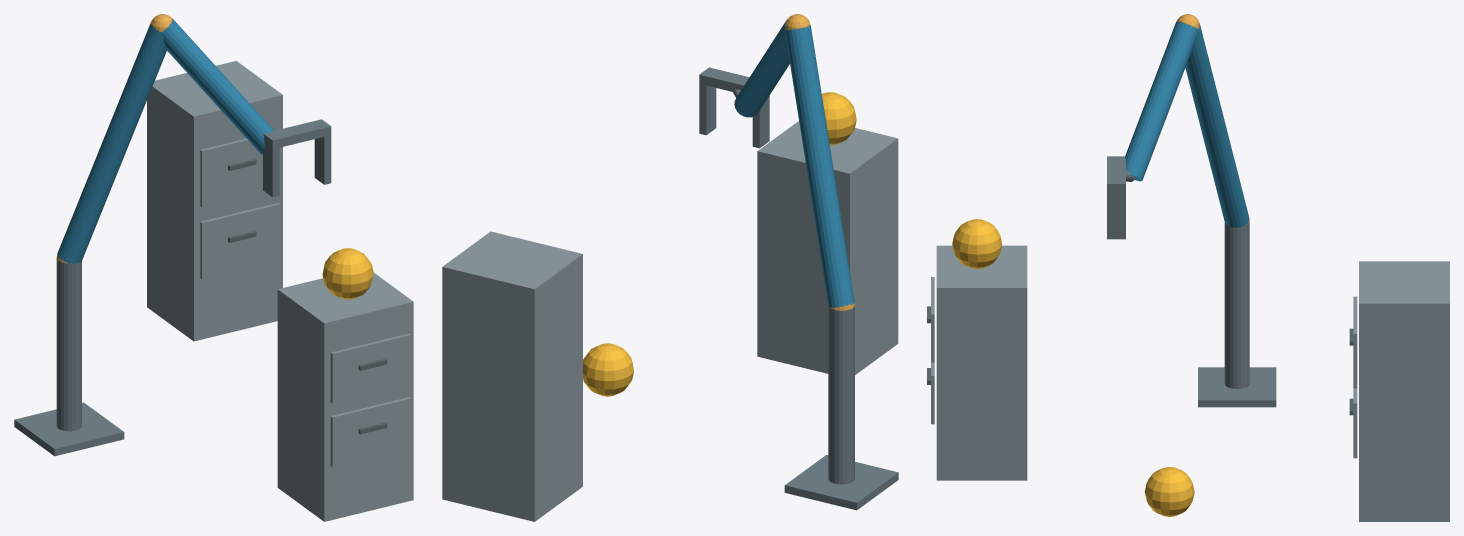
3 views of the same model, side by side, from view 1: azimuth 30°, elevation 25°; view 2: azimuth 150°, elevation 25°; view 3: azimuth 270°, elevation 25° (orthographic). The views are drawn at different scales.
Parts seen in each view (by area): view 1: cabinet_2 body, cabinet_1 body, moving link 1, cabinet_2 drawer front, fixed post, cabinet_1 drawer front.001, cabinet_1 drawer front, moving link 2, cabinet_2 drawer front.001, pedestal, released ball_1, gripper bridge (+2 smaller); view 2: cabinet_2 body, cabinet_1 body, moving link 1, fixed post, pedestal, moving link 2, ball ball_2, released ball_1, gripper finger 1, gripper bridge, gripper finger -1; view 3: cabinet_2 body, cabinet_1 body, moving link 1, fixed post, moving link 2, pedestal, ball ball_2, released ball_1, gripper finger 1, gripper bridge.
Part boxes in pixels (box(x1,y1,x2,y2)): cabinet_2 body: box(147, 61, 282, 341); cabinet_1 body: box(277, 273, 413, 521); moving link 1: box(57, 22, 166, 264); cabinet_2 drawer front: box(200, 202, 280, 279); fixed post: box(56, 259, 81, 431); cabinet_1 drawer front.001: box(330, 333, 411, 403); cabinet_1 drawer front: box(330, 397, 411, 466); moving link 2: box(162, 18, 273, 154); cabinet_2 drawer front.001: box(200, 138, 280, 207); pedestal: box(14, 402, 124, 456); released ball_1: box(322, 248, 373, 299); gripper bridge: box(263, 119, 331, 149); cabinet_2 body: box(442, 231, 582, 521); cabinet_1 body: box(757, 121, 898, 374); moving link 1: box(785, 25, 854, 307); fixed post: box(828, 304, 854, 484); pedestal: box(784, 455, 898, 510); moving link 2: box(734, 19, 789, 117); ball ball_2: box(583, 343, 633, 396); released ball_1: box(821, 92, 856, 145); gripper finger 1: box(699, 84, 716, 135); gripper bridge: box(699, 67, 749, 91); gripper finger -1: box(752, 96, 769, 148); cabinet_2 body: box(1359, 261, 1449, 521); cabinet_1 body: box(936, 245, 1027, 480); moving link 1: box(1185, 24, 1249, 227); fixed post: box(1224, 221, 1249, 388); moving link 2: box(1125, 21, 1197, 181); pedestal: box(1198, 367, 1276, 407); ball ball_2: box(1144, 467, 1194, 516); released ball_1: box(952, 219, 1001, 268); gripper finger 1: box(1107, 192, 1125, 239); gripper bridge: box(1107, 156, 1125, 192).
Bounding box in the file's own units: 1.14 × 1.44 × 1.67.
